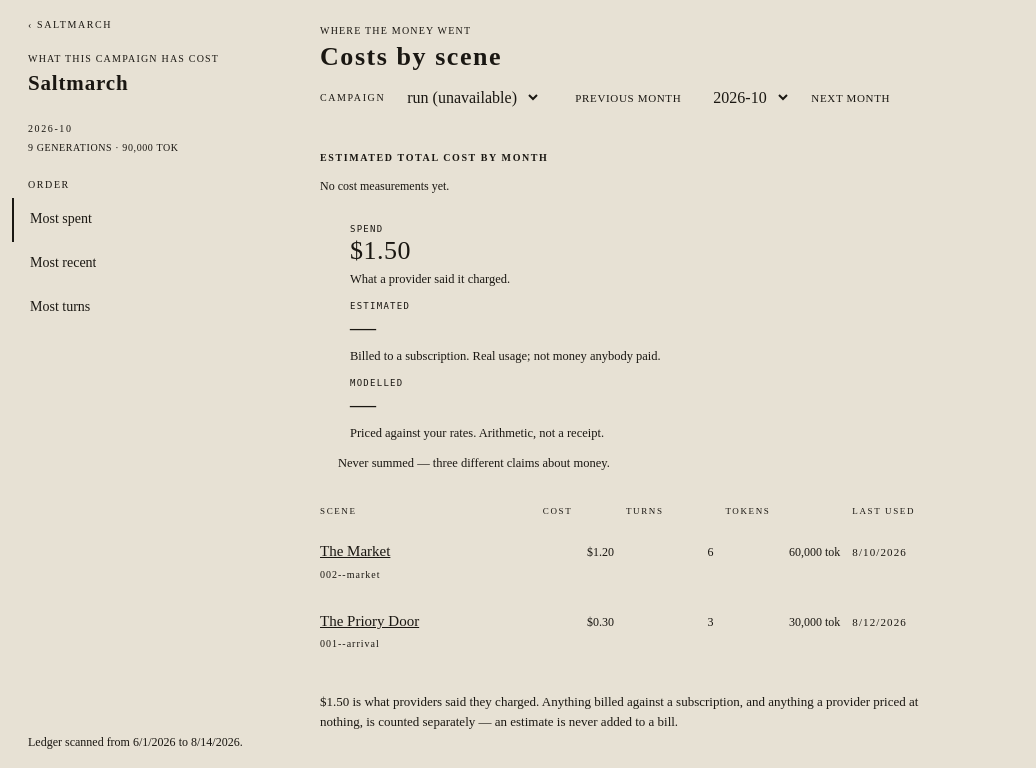
Test: the heading describes the order that came back, not the one just clicked
Check: the text "$1.50" is shown, box [350,236,411,265]
Click the button "Most recent" at (63, 263), box [12,242,286,286]
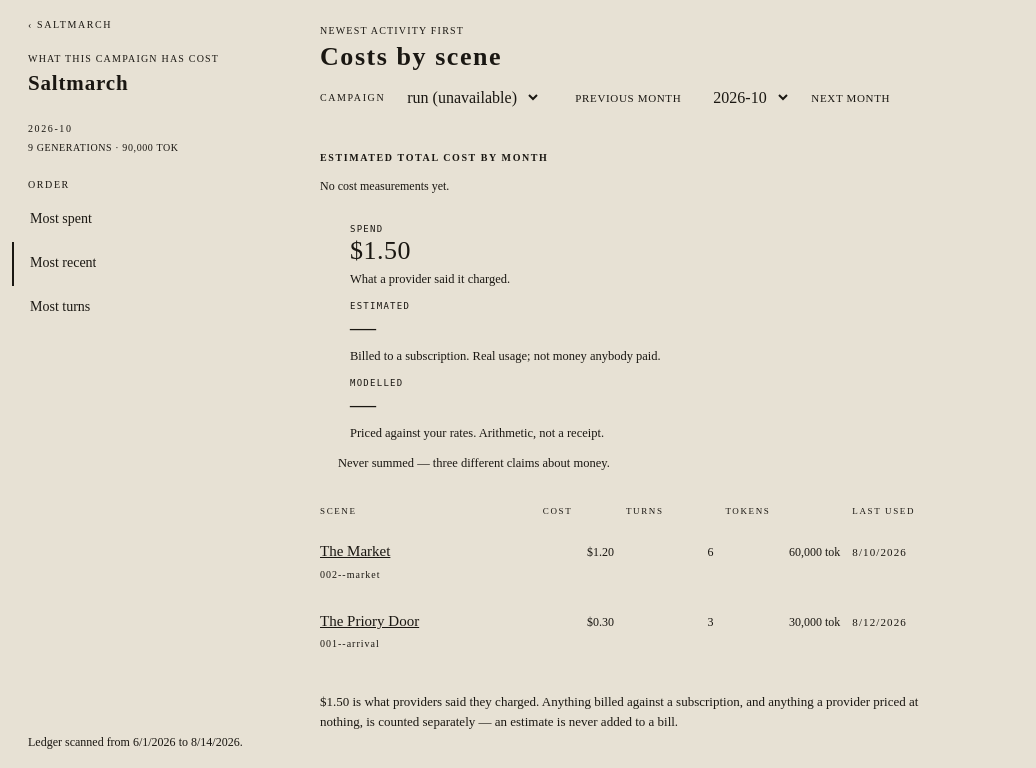
Check: the text "NEWEST ACTIVITY FIRST" is shown, box [320,25,464,36]
